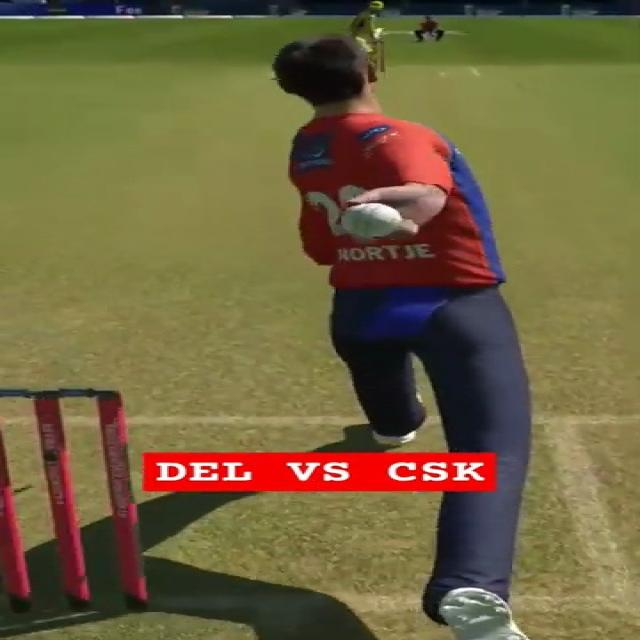ball: (340, 202, 400, 239)
